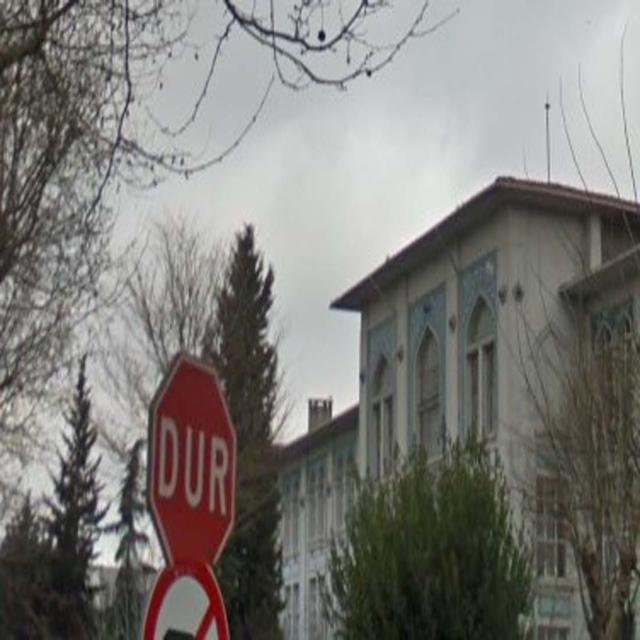dur: (147, 351, 235, 569)
